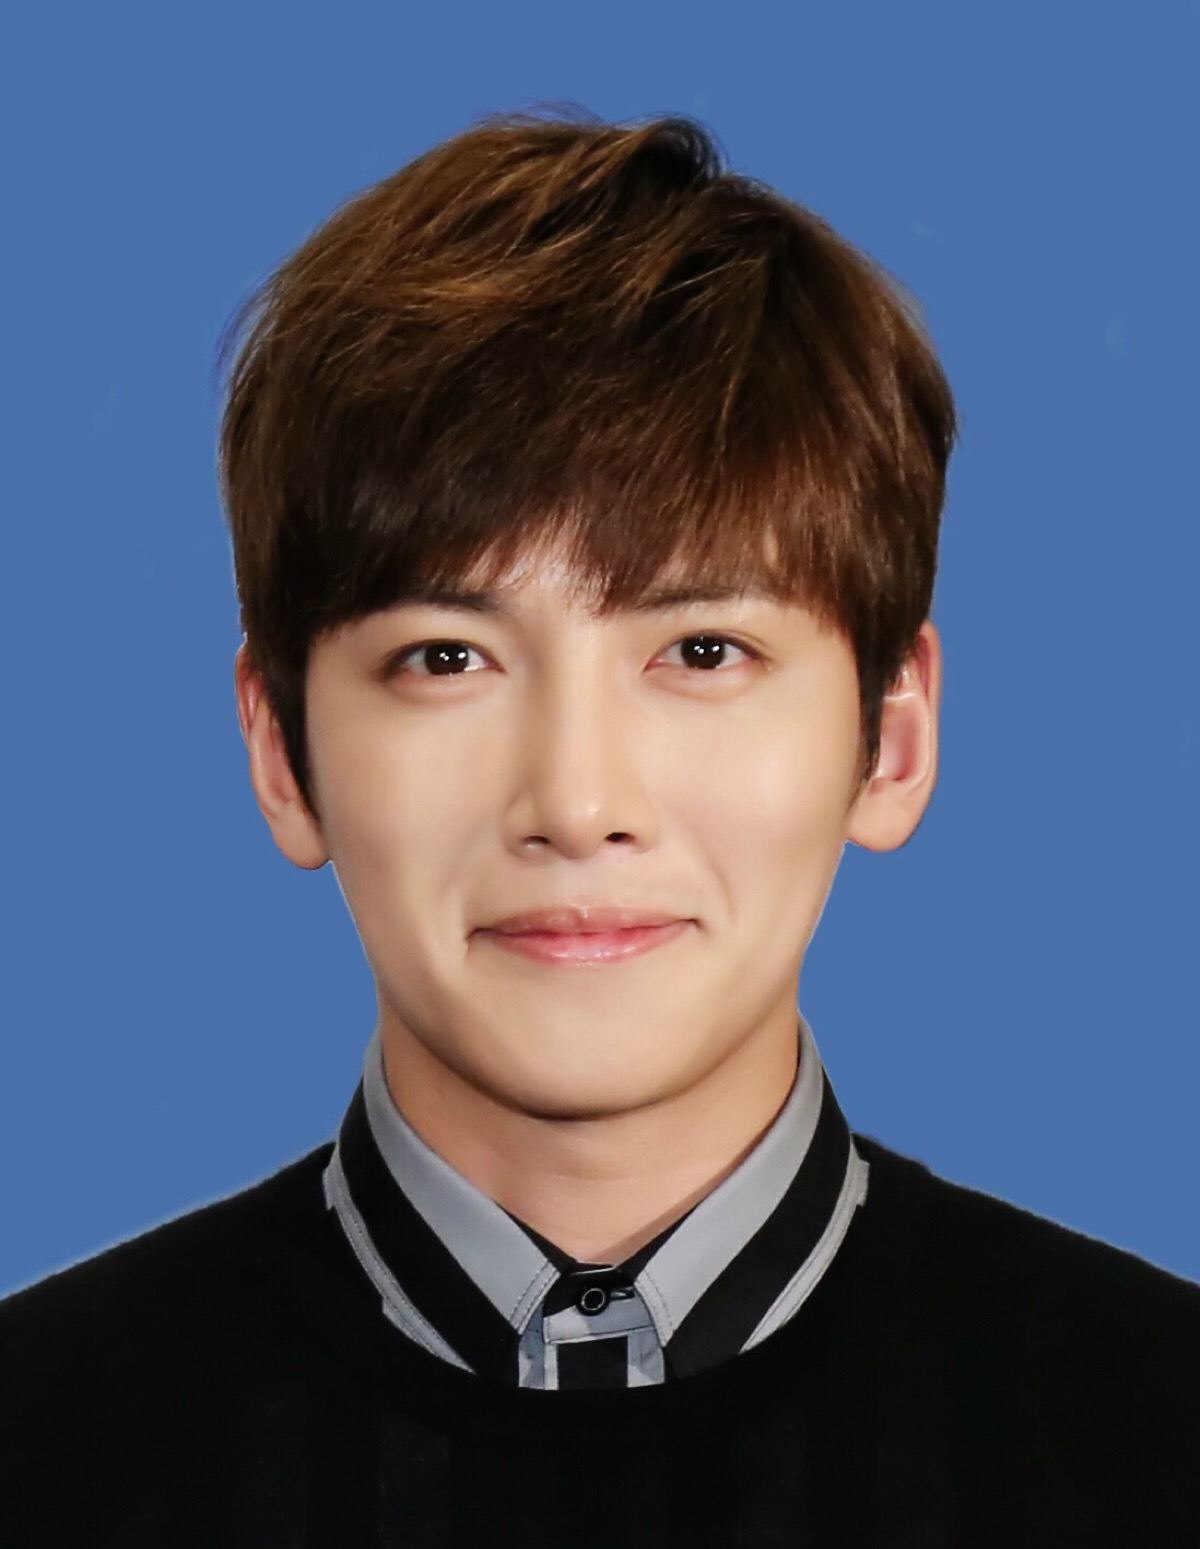unmask: (286, 524, 855, 1058)
